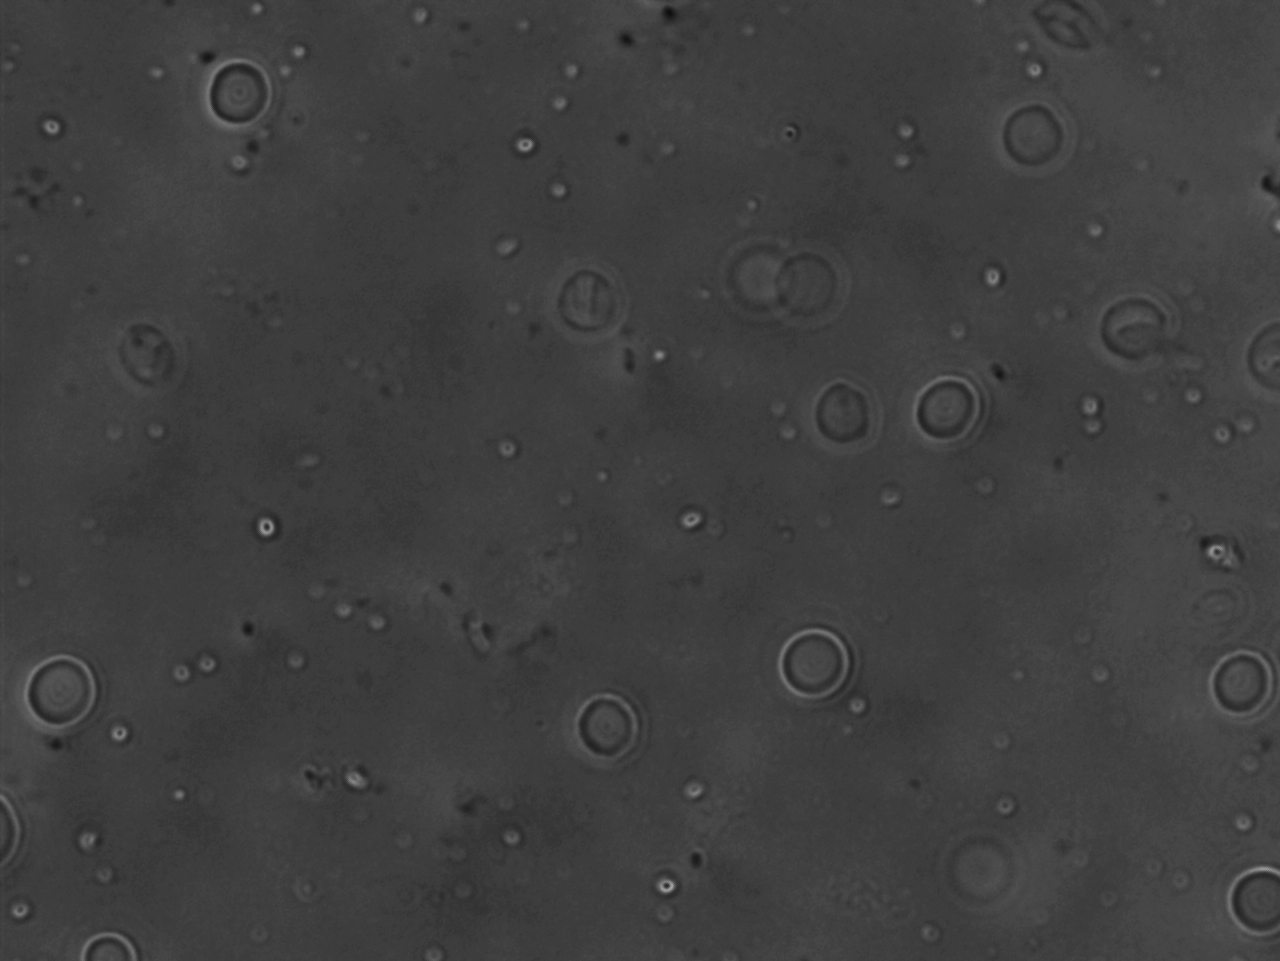depth:0: (766, 615, 866, 710), (10, 643, 108, 733), (569, 682, 663, 770), (909, 368, 995, 452), (198, 48, 283, 132), (1200, 637, 1280, 725), (1217, 842, 1280, 937)
